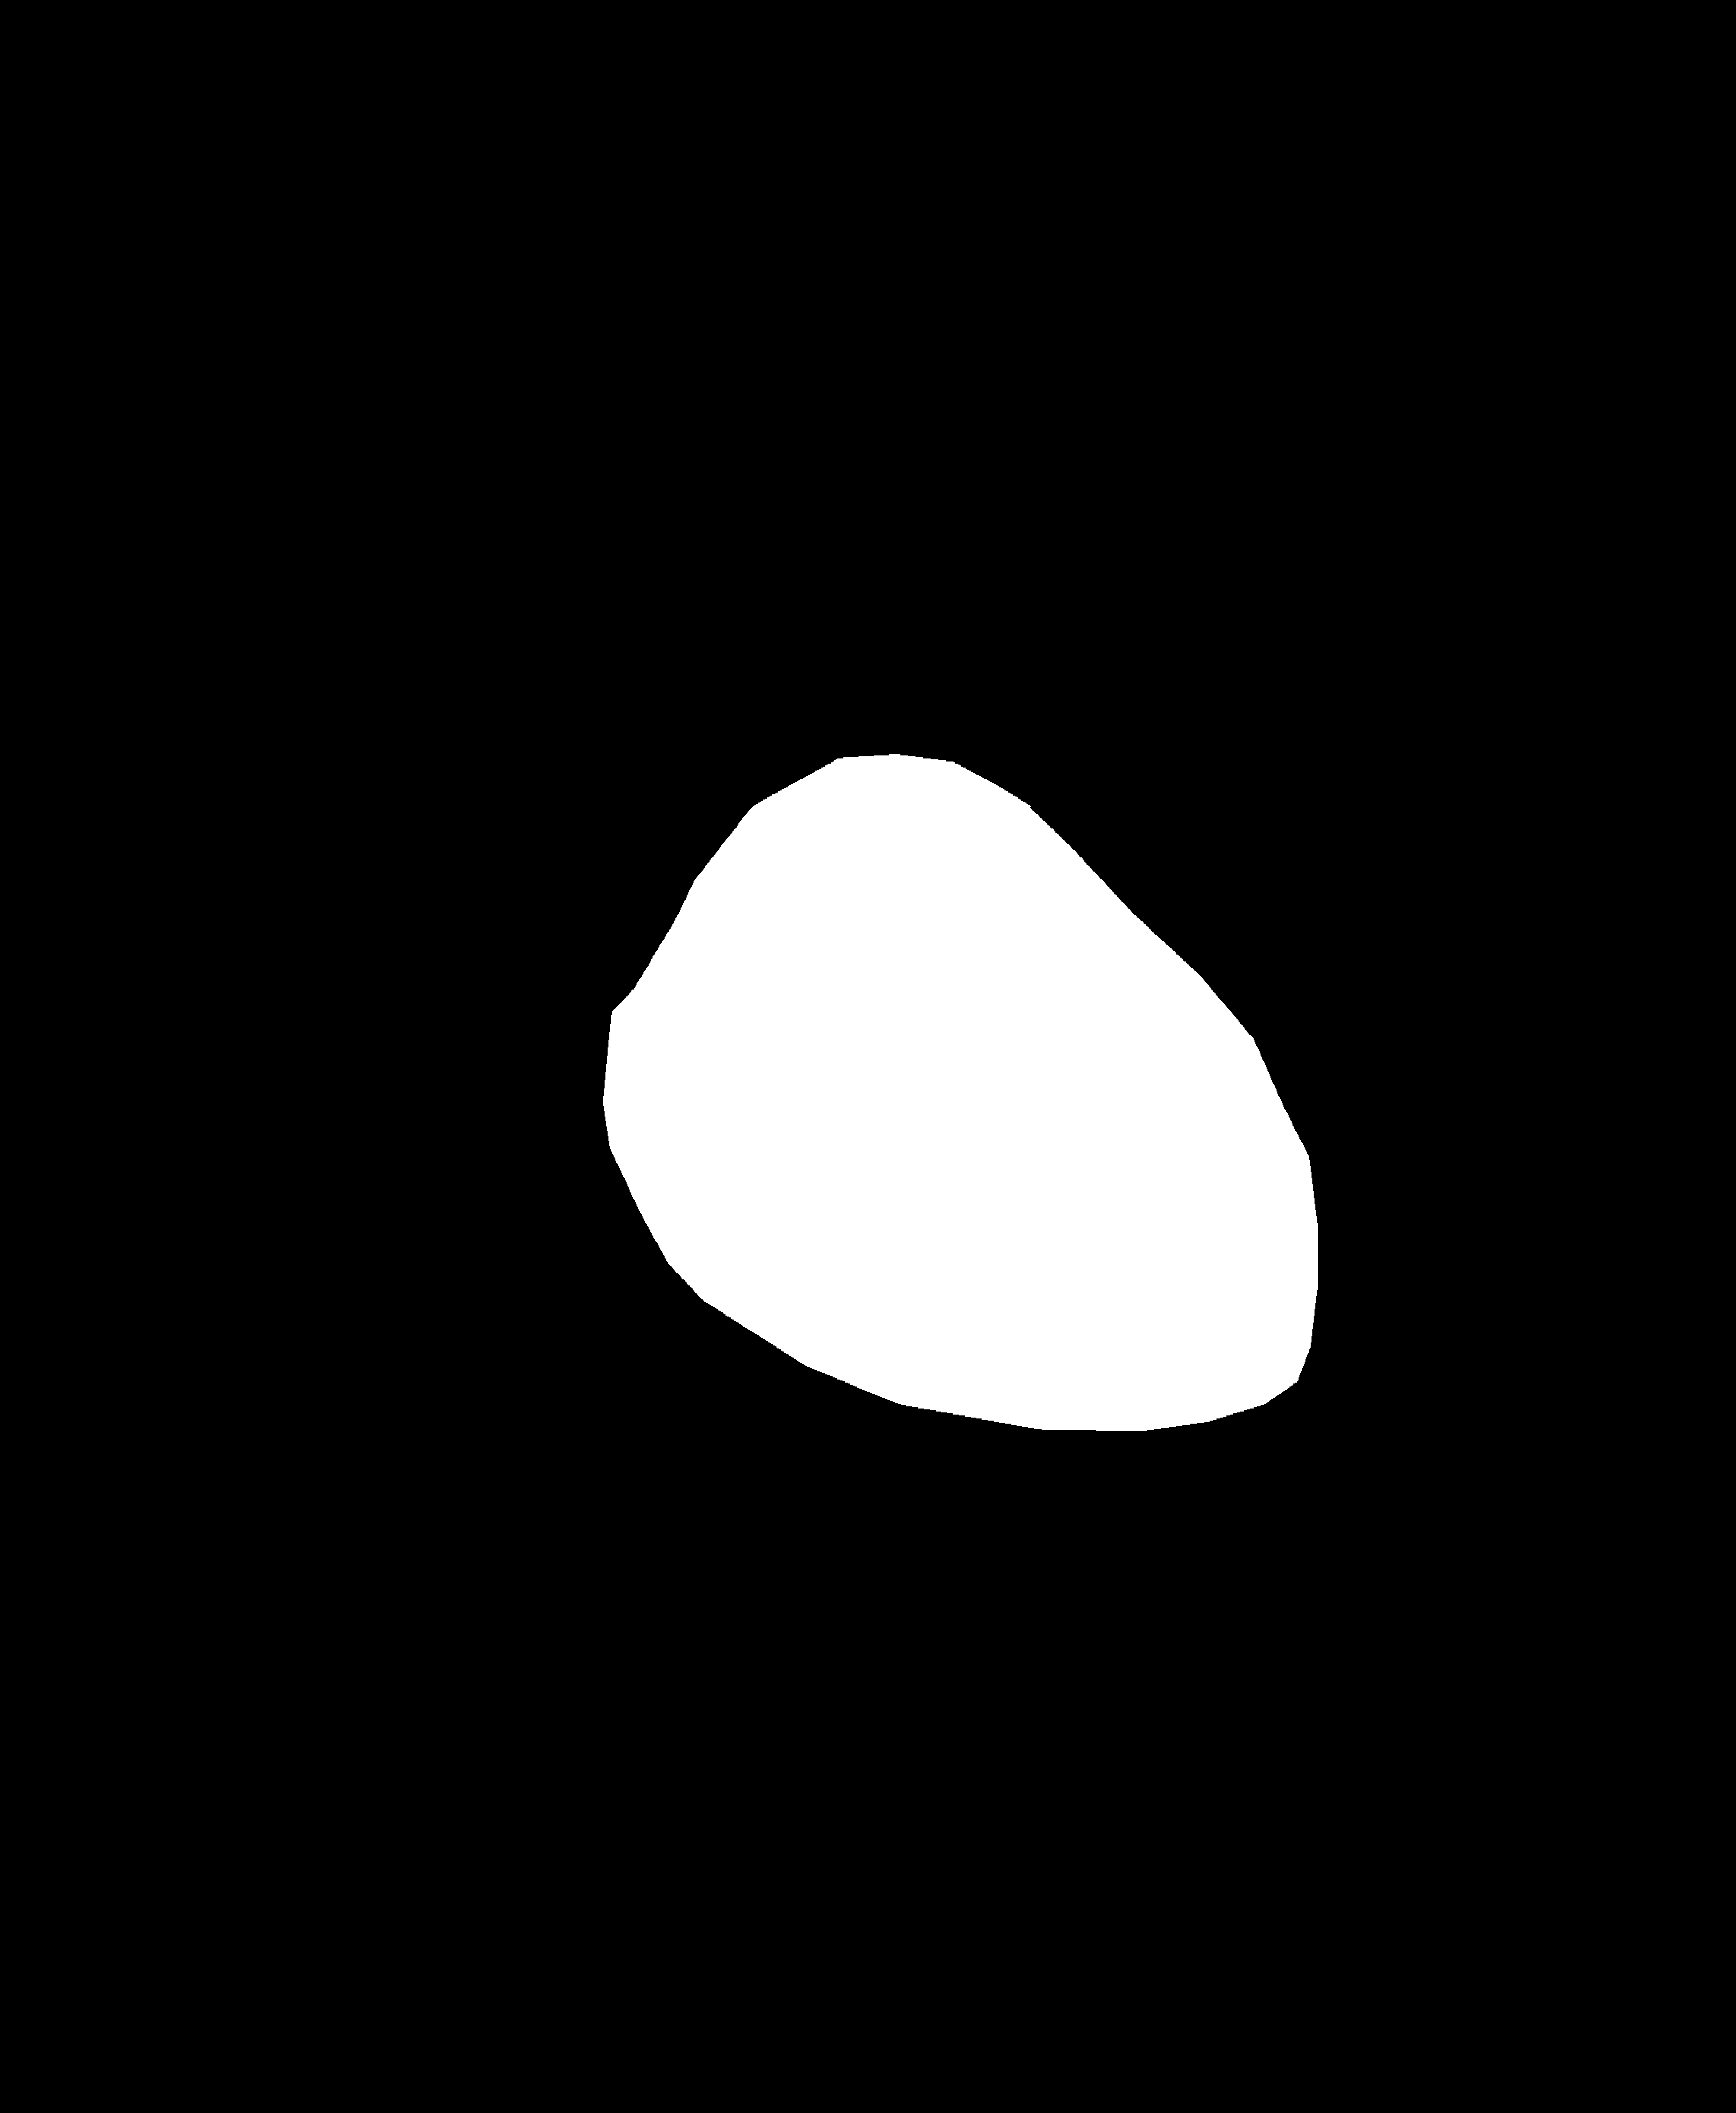heart: (604, 867, 1315, 1418)
left_lung: (104, 298, 758, 1569)
right_lung: (867, 260, 1585, 1602)
